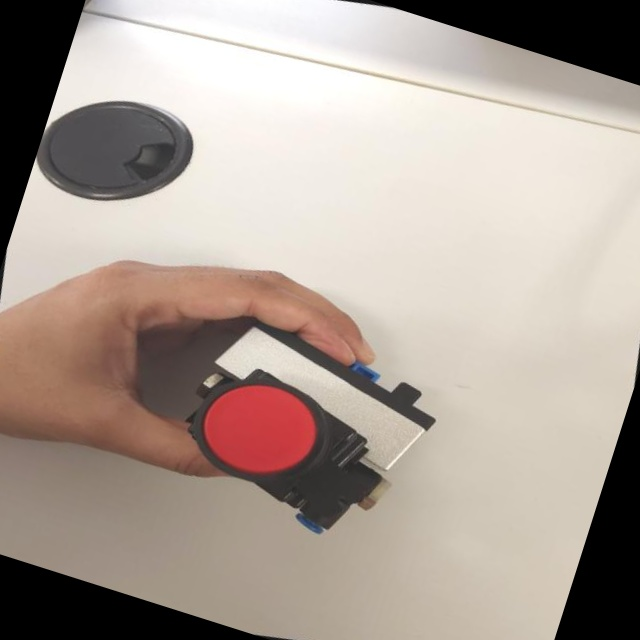push button: (121, 267, 489, 601)
